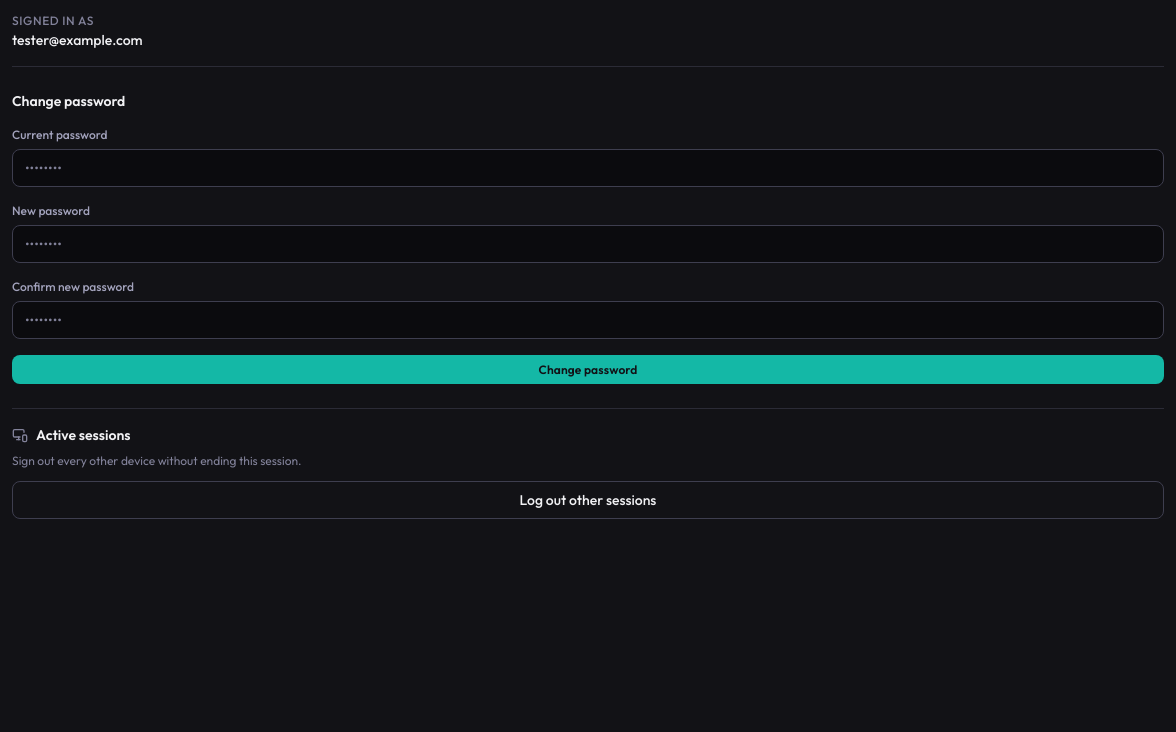
Test: AccountSection › changes the password and shows a success message
Type "old-secret-123" into the password field labelled "Current password" at (588, 168), box [12, 149, 1164, 187]
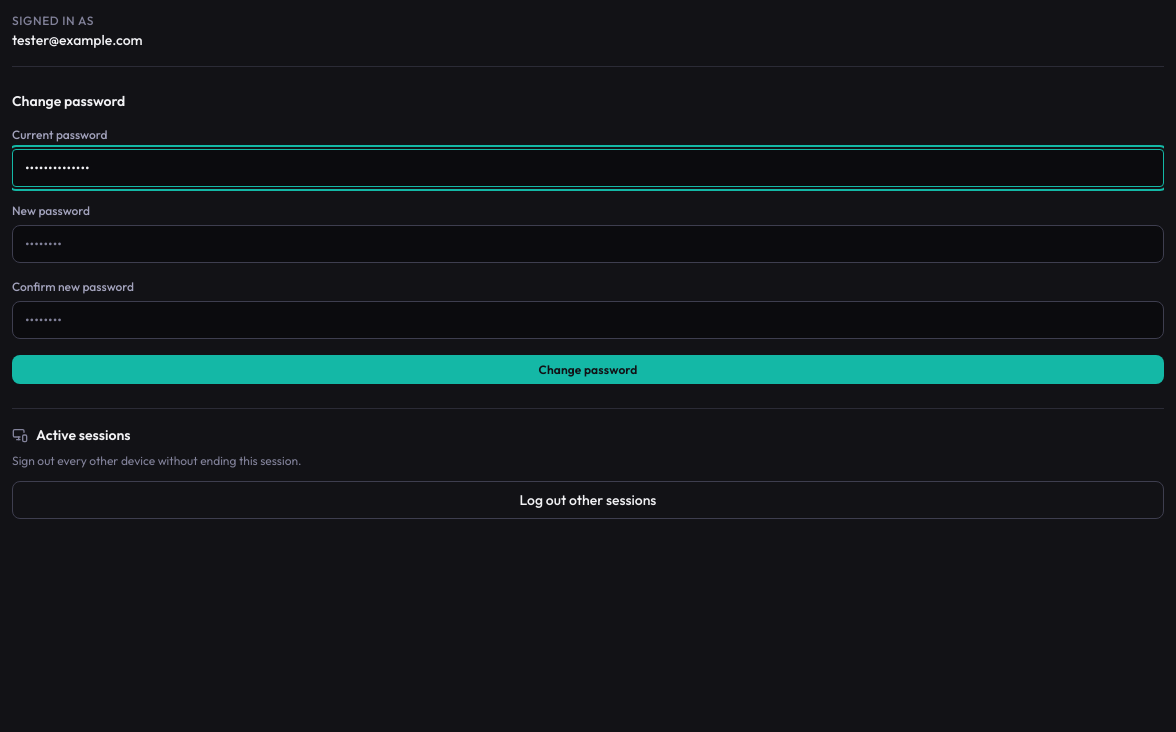
Type "new-secret-456" into the password field labelled "New password" at (588, 244), box [12, 225, 1164, 263]
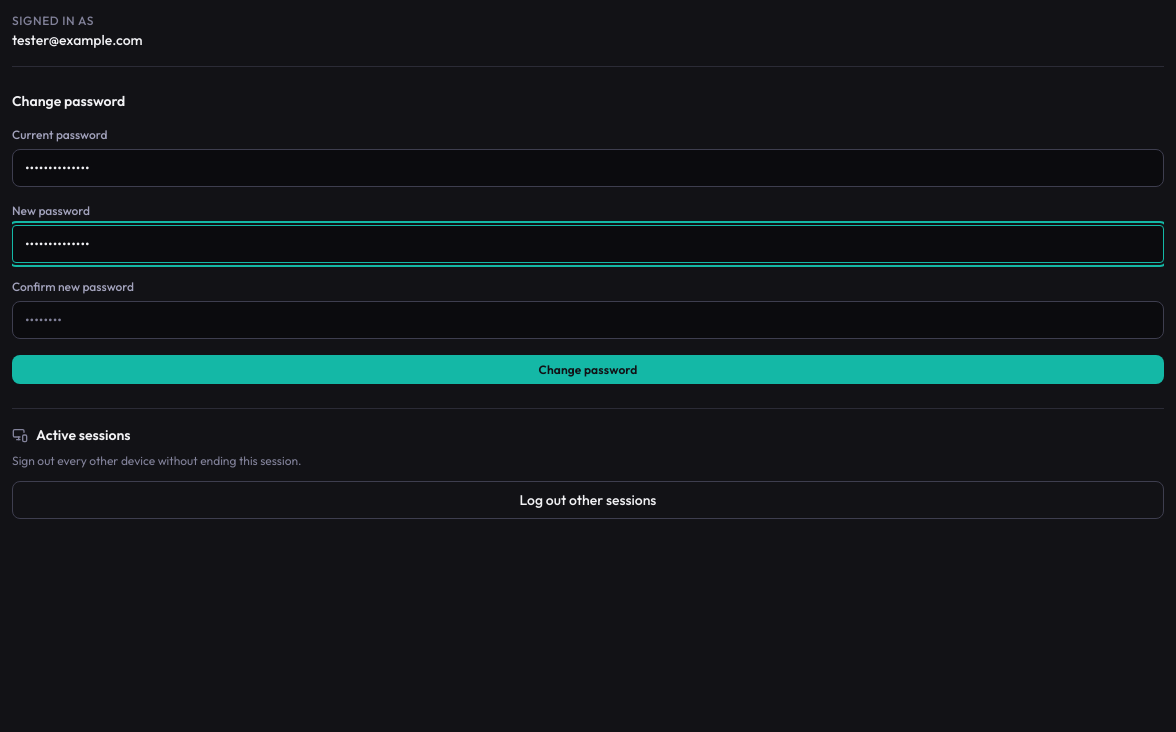
Type "new-secret-456" into the password field labelled "Confirm new password" at (588, 320), box [12, 301, 1164, 339]
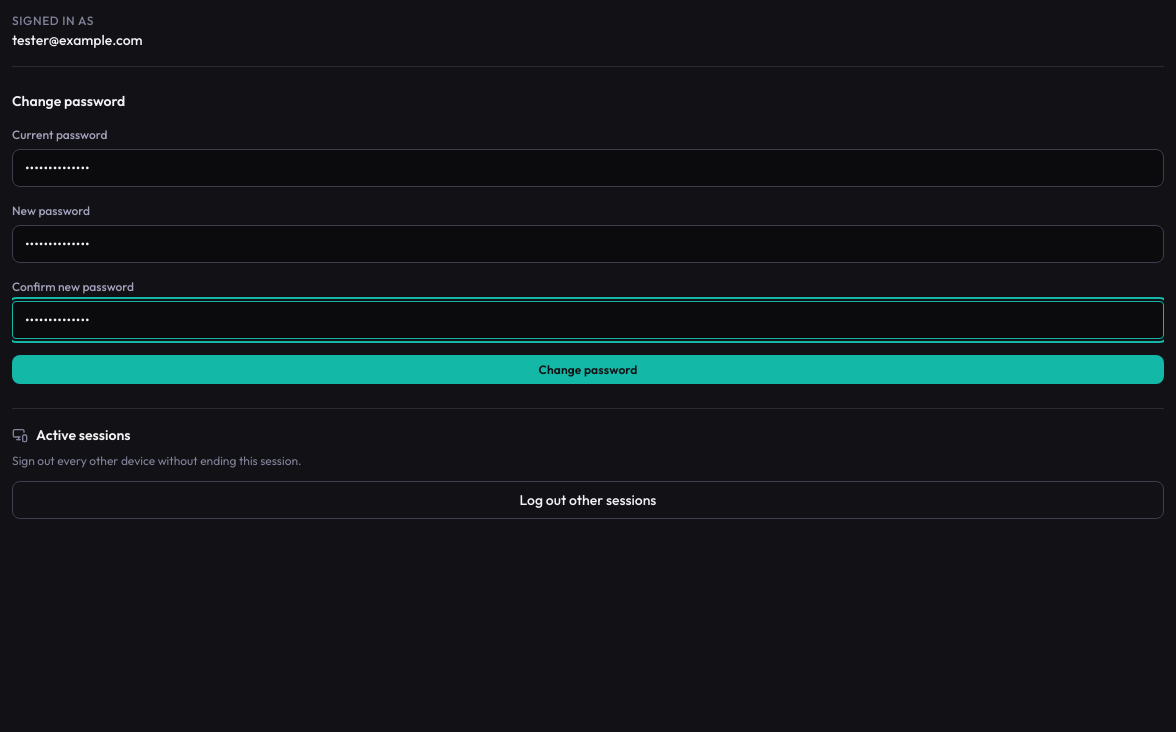
Click the button "Change password" at (588, 370), box [12, 355, 1164, 384]
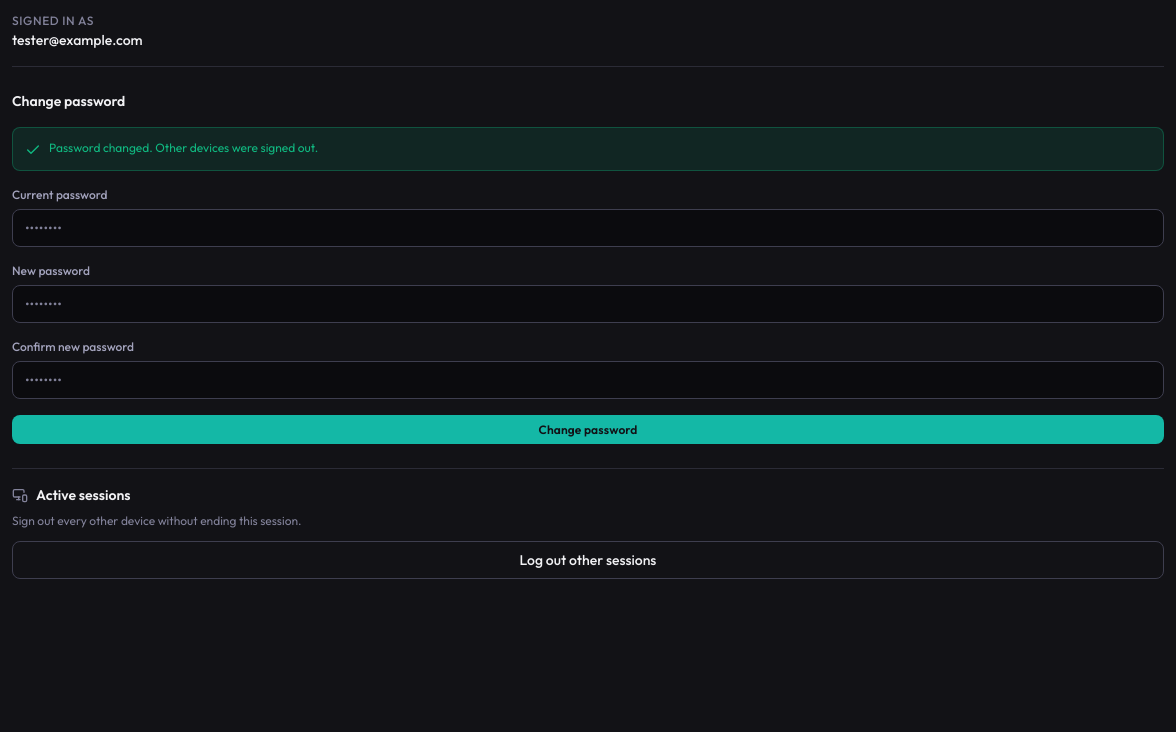
Now the text "Password changed. Other devices were signed out." is shown, box [49, 140, 318, 156]
Now the password field labelled "Current password" is empty, box [12, 209, 1164, 247]
